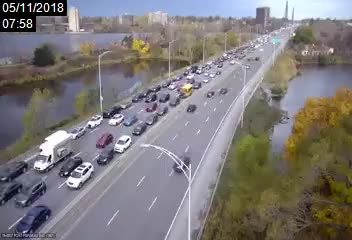congestion: (3, 115, 142, 228), (89, 86, 177, 130), (150, 66, 207, 96), (192, 54, 237, 75)
personal_car: (14, 205, 51, 234), (14, 177, 46, 205), (69, 162, 93, 190), (1, 159, 29, 180), (1, 178, 22, 203), (60, 156, 80, 175), (115, 134, 132, 155), (97, 146, 114, 167), (172, 153, 188, 173), (96, 131, 112, 148), (87, 114, 102, 129), (103, 104, 118, 118), (109, 112, 123, 126), (124, 113, 136, 127), (133, 122, 145, 136), (169, 94, 181, 107), (156, 104, 168, 117), (145, 113, 157, 126), (183, 65, 196, 76), (157, 92, 169, 103), (119, 99, 131, 109), (145, 102, 156, 112), (186, 103, 196, 113), (150, 84, 162, 92), (162, 77, 171, 87), (131, 93, 141, 102), (205, 88, 215, 97), (192, 81, 203, 89), (168, 82, 178, 90), (184, 73, 195, 80), (141, 88, 149, 97), (218, 86, 227, 94), (209, 71, 216, 79), (195, 67, 203, 74), (174, 74, 181, 81), (202, 70, 210, 76)
school_bus: (180, 84, 193, 99)
truck: (33, 132, 72, 172)
